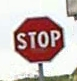stop: (13, 15, 64, 63)
